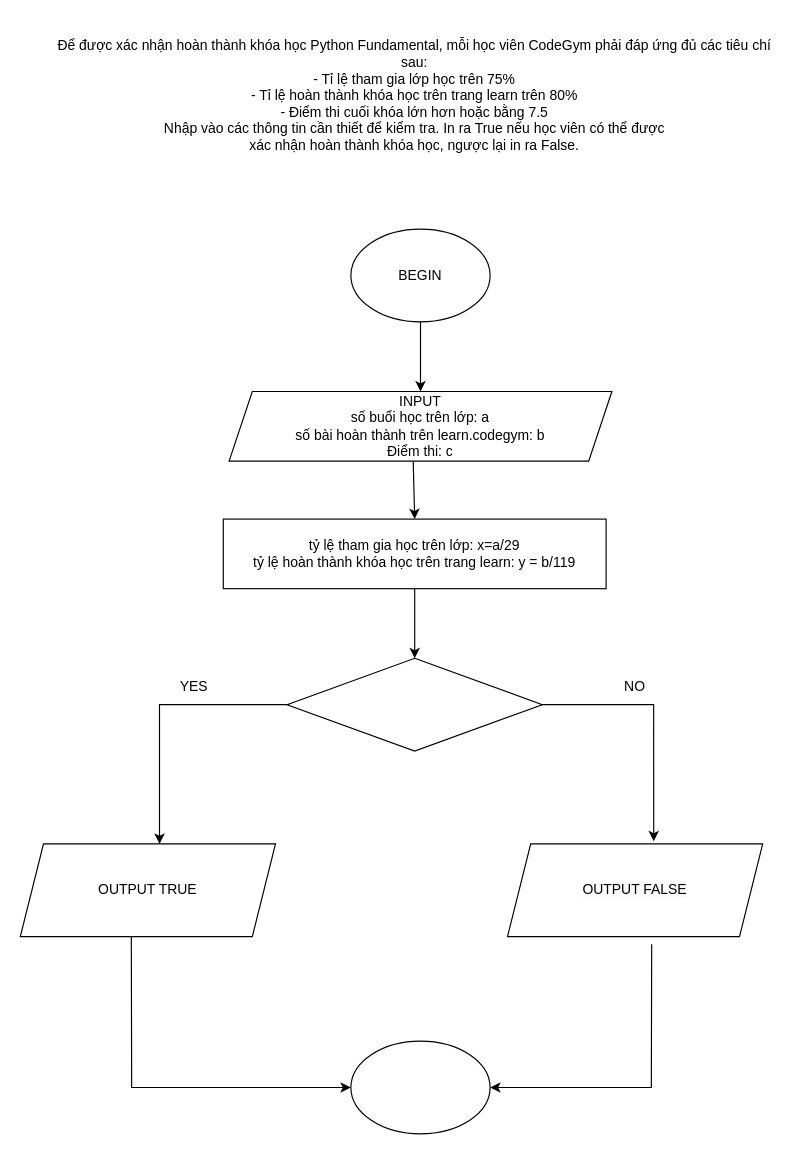
This 806x1154 diagram has some shape labels left out. Each missing label, with the centre of its shape:
DONE: (x=420, y=1087)
x >= 0.75? y >= 0.8? c >= 7.5?: (x=414, y=704)
